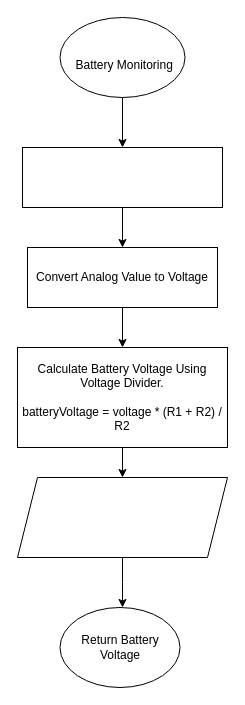
This 245x705 diagram has some shape labels left out. Each missing label, with the centre of its shape:
Print Battery Voltage to Serial Monitor: (122,517)
Read Analog Battery Voltage (sensorValue): (122,177)
